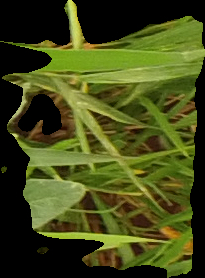grass: (1, 1, 204, 276)
